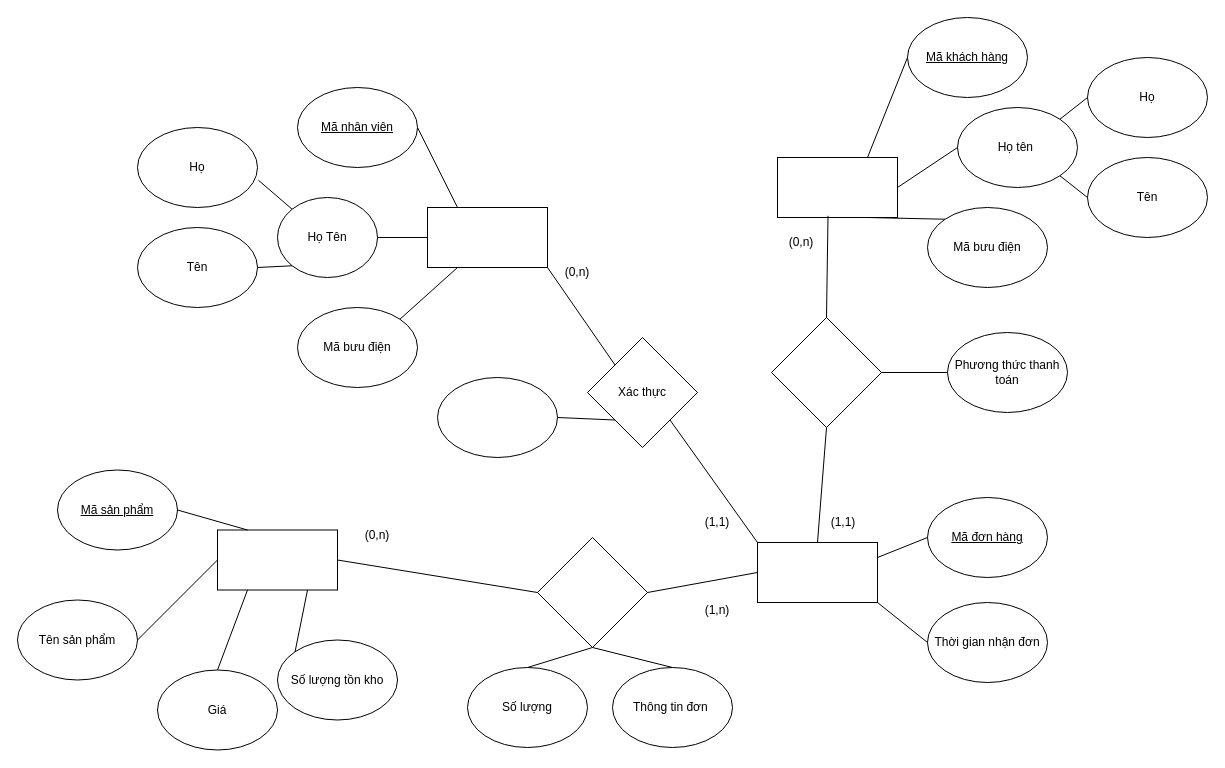
Image size: 1225x768. Some labels were removed from this diagram. The centre of each missing label's shape, as x and y in pixels:
Chi tiết đơn hàng: the point at 592,592
Khách hàng: the point at 837,187
Mua hàng: the point at 826,372
Ngày xác thực: the point at 497,417
Nhân viên: the point at 487,237
Sản phẩm: the point at 277,559
Đơn hàng: the point at 817,572
